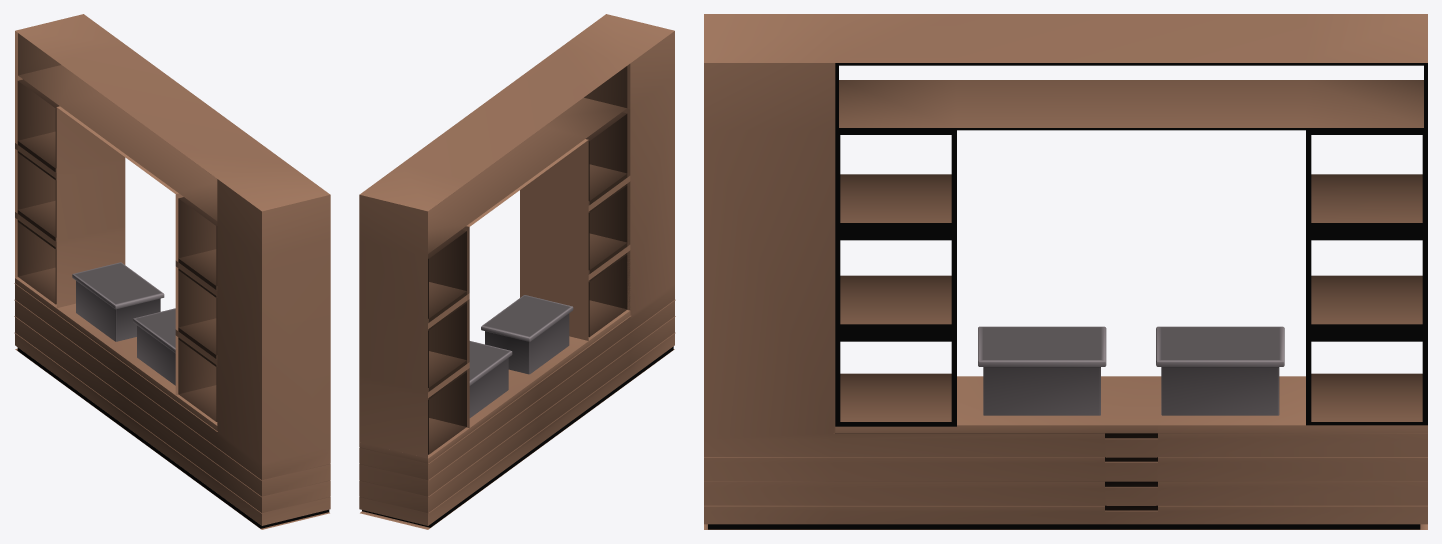
File: Shkaf 1.fbx
3 views of the same model, side by side, from view 1: azimuth 30°, elevation 25°; view 2: azimuth 150°, elevation 25°; view 3: azimuth 270°, elevation 25° (orthographic). The views are drawn at different scales.
Visible parts, largest first — view 1: Shkaf 1; view 2: Shkaf 1; view 3: Shkaf 1.
Boxes of the visible parts, bbox=[...] form: Shkaf 1: bbox=[14, 14, 330, 529]; Shkaf 1: bbox=[359, 14, 675, 529]; Shkaf 1: bbox=[704, 14, 1427, 529].
Bounding box in the file's own units: 0.4557 × 2.81 × 2.
